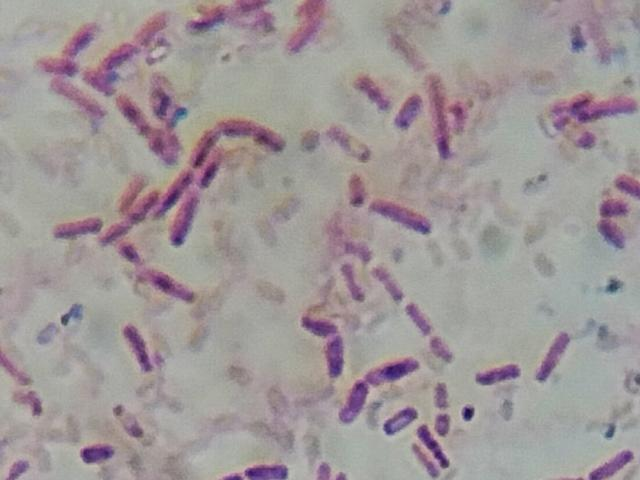E. coli: (141, 259, 207, 307), (429, 73, 461, 166), (372, 195, 439, 232), (115, 100, 159, 154), (5, 362, 48, 413), (221, 119, 287, 151), (286, 0, 324, 55), (125, 315, 159, 374), (191, 0, 265, 27), (533, 329, 569, 384), (585, 446, 639, 480), (108, 399, 150, 441), (573, 97, 640, 122), (473, 359, 520, 393), (352, 65, 387, 110), (375, 402, 417, 438), (366, 353, 416, 383), (332, 129, 376, 163), (168, 192, 195, 241), (322, 335, 349, 383), (373, 262, 403, 303), (429, 380, 454, 429), (248, 453, 293, 480), (78, 439, 121, 467), (395, 95, 425, 135), (158, 170, 184, 215), (336, 382, 367, 419), (419, 420, 446, 462), (408, 299, 435, 339), (335, 262, 365, 298), (195, 155, 235, 182), (53, 85, 91, 112), (341, 166, 369, 202), (407, 444, 434, 480), (299, 310, 336, 335), (126, 192, 161, 218), (3, 453, 36, 480), (596, 222, 629, 249), (153, 82, 175, 121), (38, 56, 75, 79), (105, 42, 134, 70), (58, 220, 96, 241), (188, 127, 214, 157), (65, 27, 96, 51), (118, 239, 146, 265), (429, 330, 453, 360), (616, 173, 640, 200), (138, 10, 164, 34), (602, 193, 626, 214), (88, 70, 112, 89), (115, 179, 142, 195), (221, 461, 242, 480)
